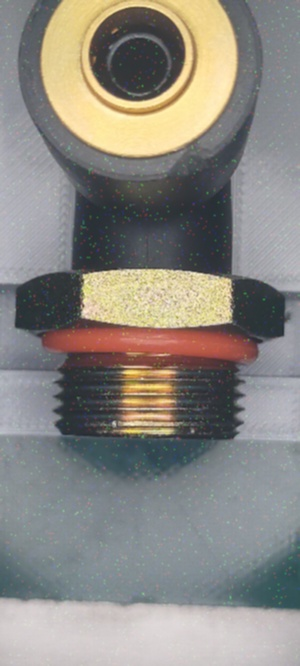bump: (157, 142, 220, 190)
joint line: (141, 220, 157, 269)
